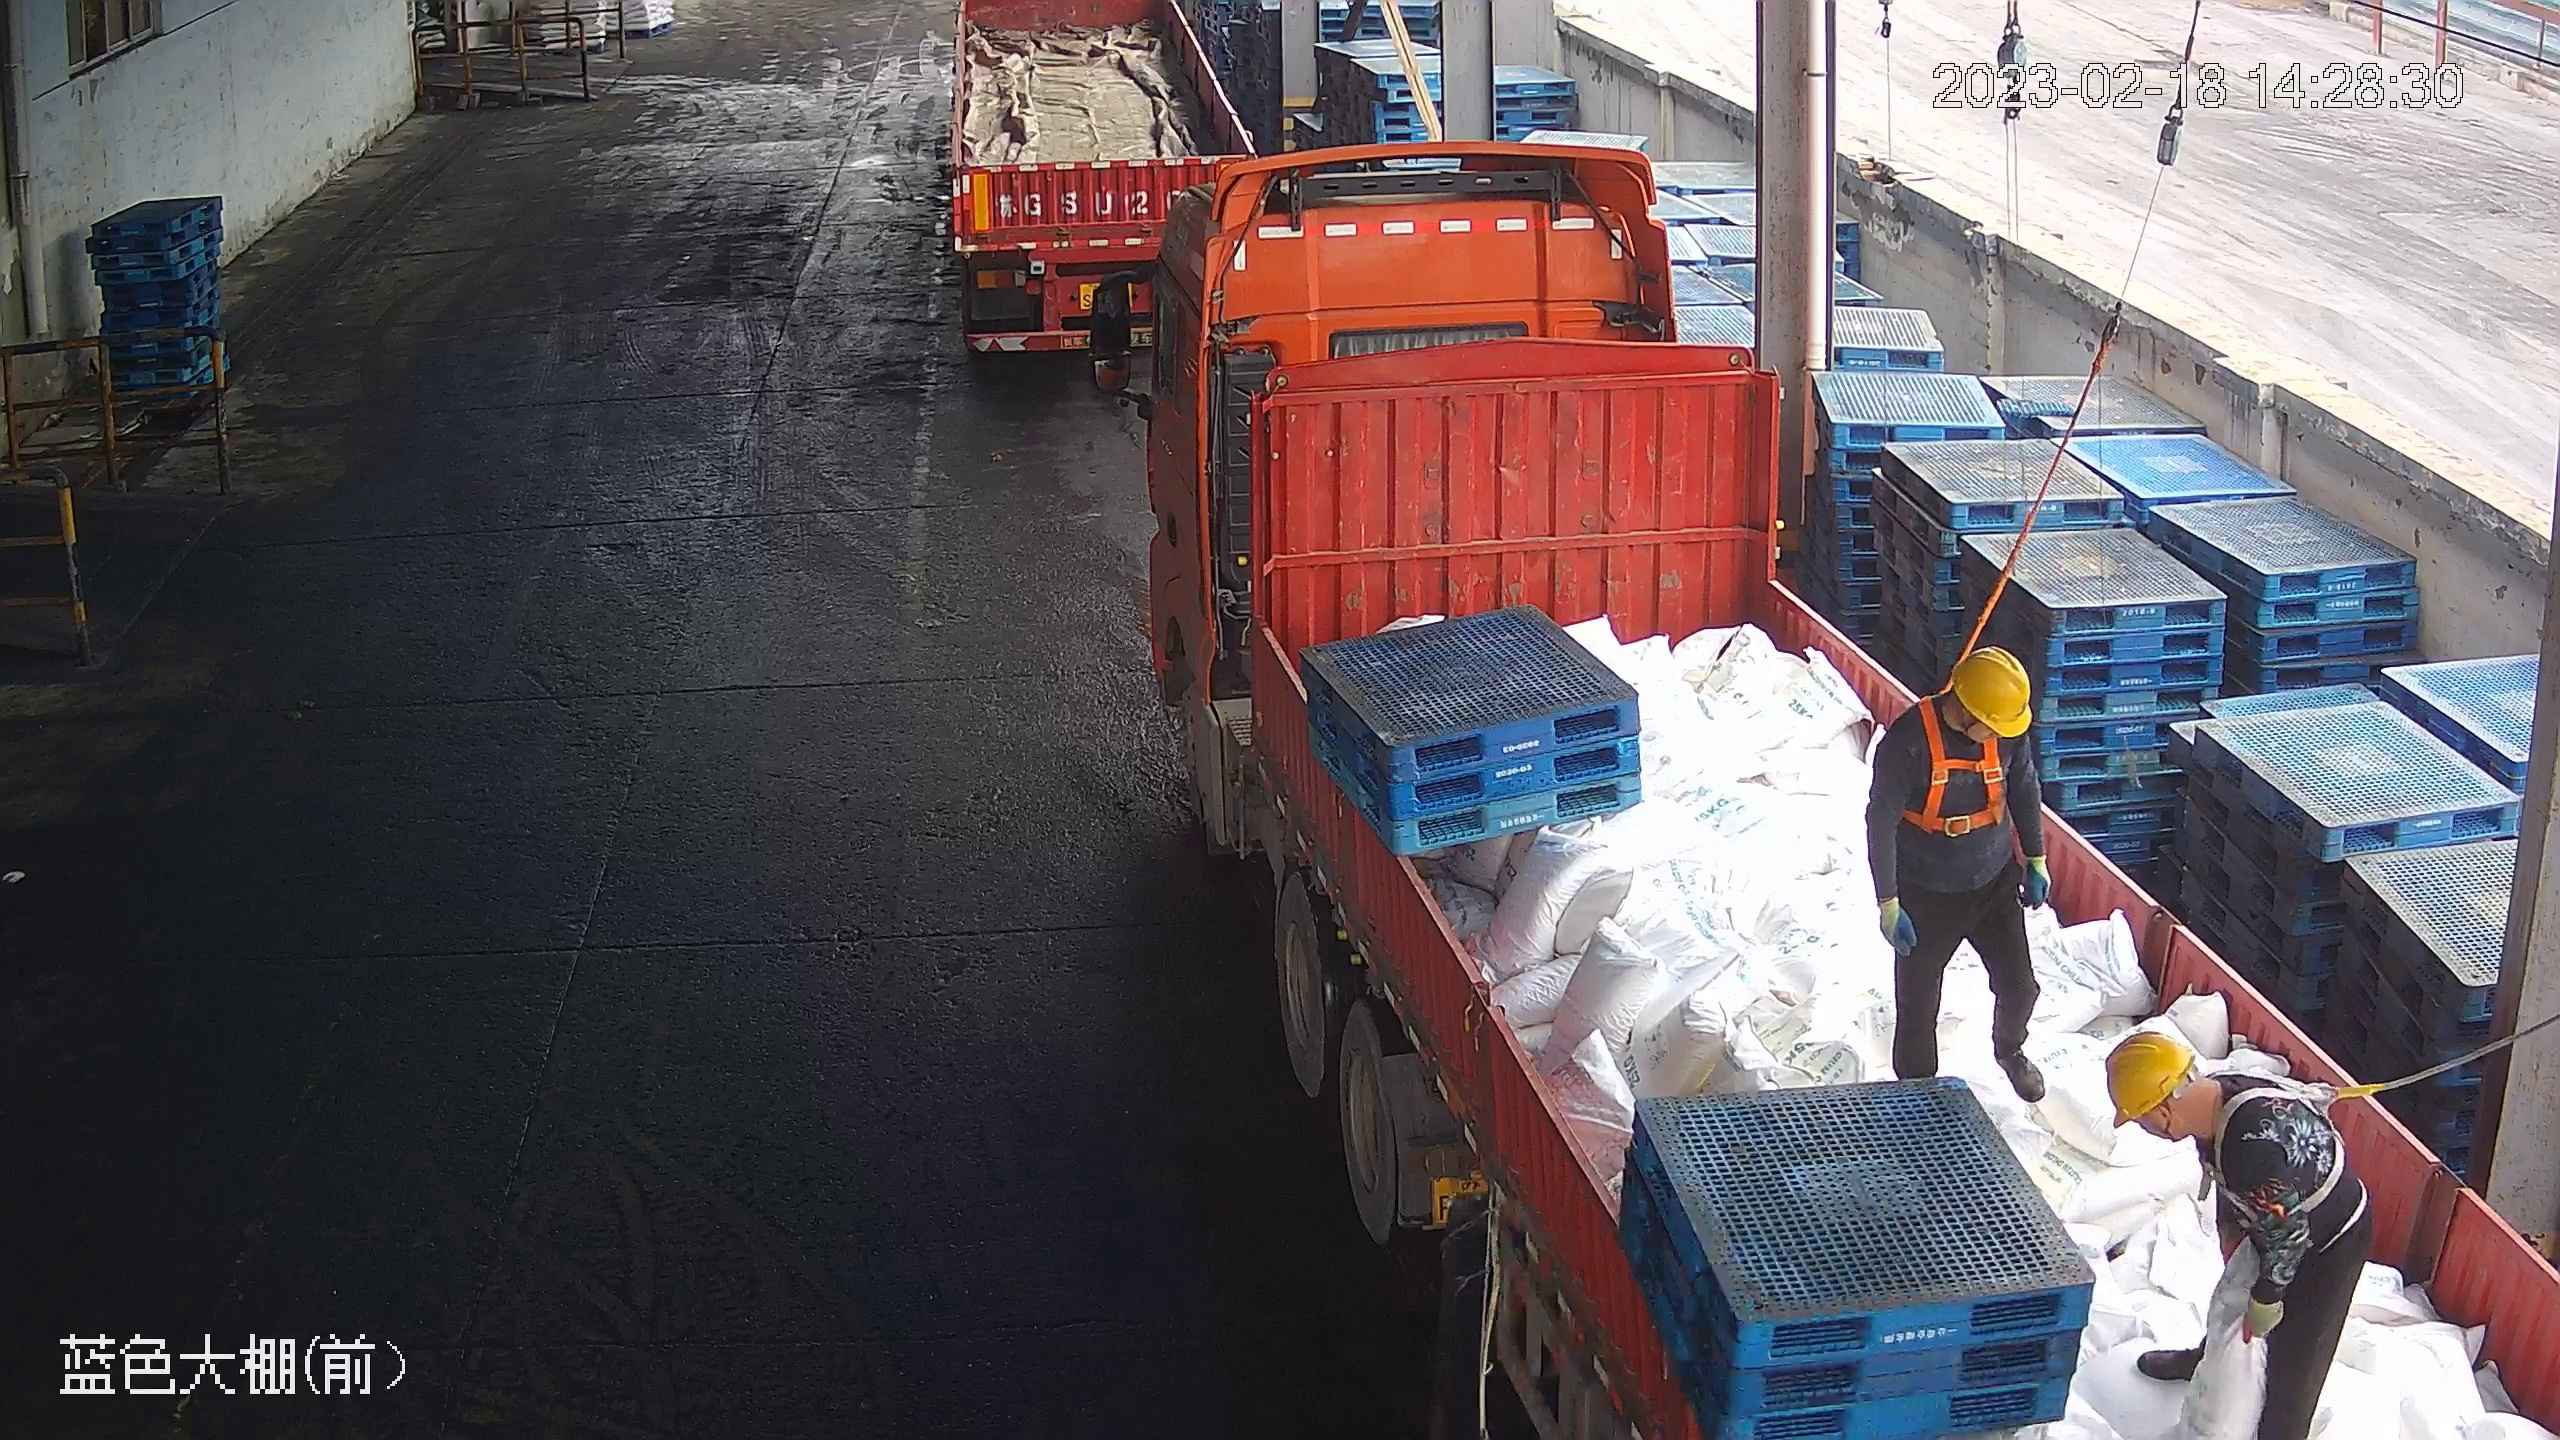belt: (2208, 1073, 2361, 1222), (1908, 697, 2023, 838)
head: (2104, 1029, 2317, 1197), (1875, 642, 2035, 777)
helmet: (2103, 1028, 2196, 1130), (1950, 643, 2032, 737)
people: (2102, 1031, 2377, 1440), (1861, 641, 2054, 1099)
truck: (1084, 138, 2547, 1438), (949, 1, 1258, 354)
